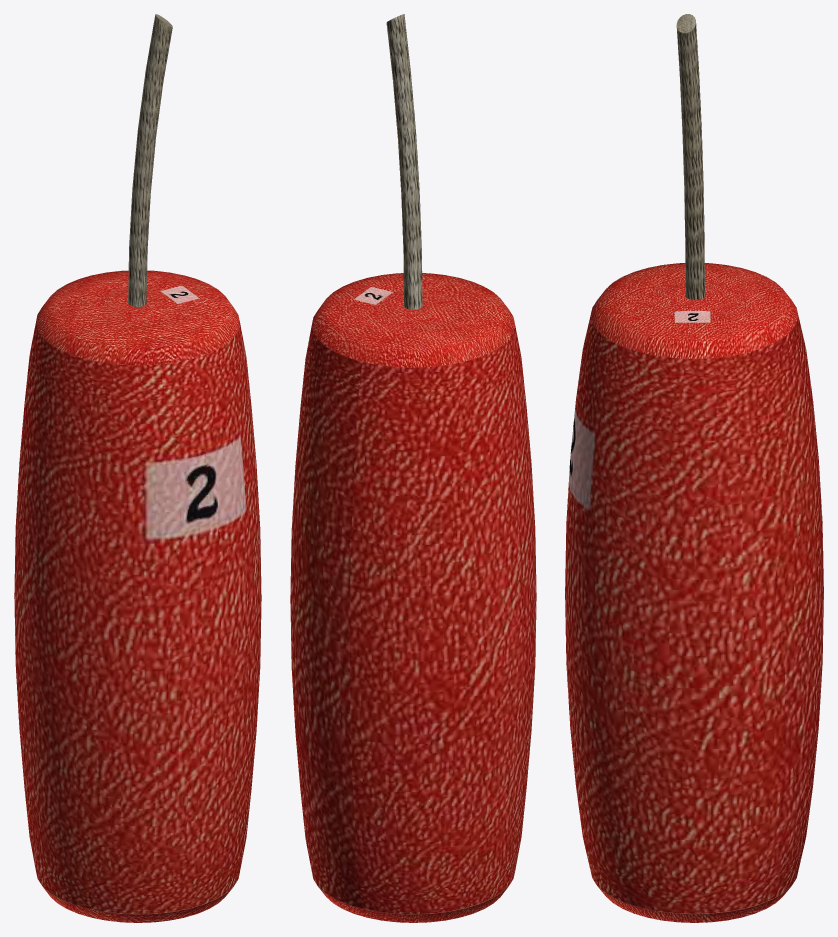
File: punching bag red2.FBX
3 renders of one model, left to right at view 1: azimuth 30°, elevation 25°; view 2: azimuth 150°, elevation 25°; view 3: azimuth 270°, elevation 25°, orthographic.
Visible parts, largest first — view 1: Cylinder001, Cylinder002; view 2: Cylinder001, Cylinder002; view 3: Cylinder001, Cylinder002.
Part boxes in pixels (<box>): Cylinder001: <box>14,270,261,922</box>; Cylinder002: <box>128,14,172,306</box>; Cylinder001: <box>290,273,536,922</box>; Cylinder002: <box>386,14,422,309</box>; Cylinder001: <box>565,263,823,922</box>; Cylinder002: <box>676,14,704,299</box>.
Bounding box in the file's own units: 54.37 × 216 × 56.99.
